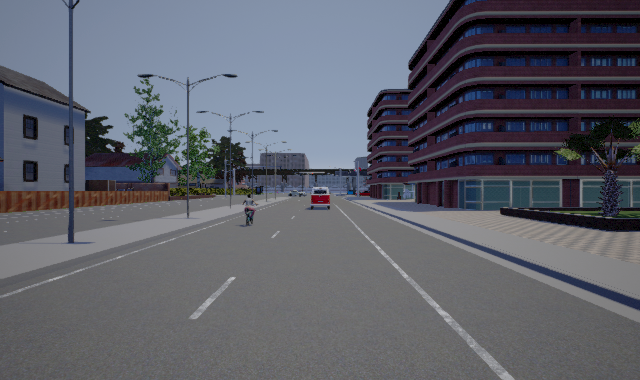bike: (241, 195, 257, 227)
vehicle: (310, 187, 331, 210)
